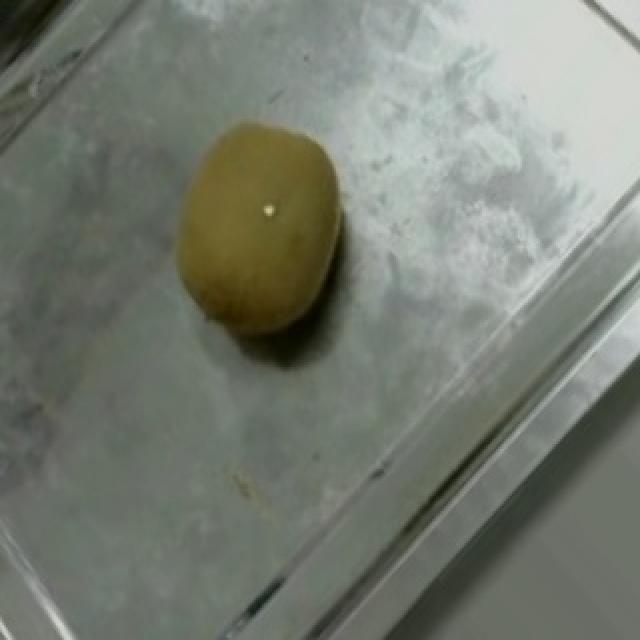Fruit: (128, 82, 386, 379)
